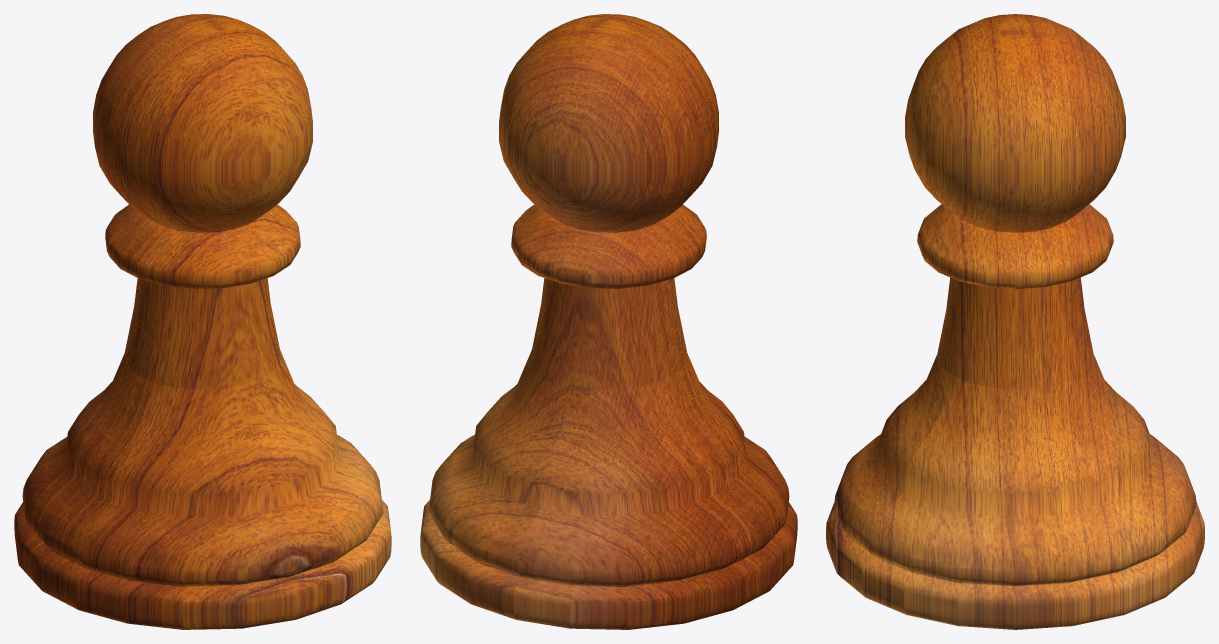
Rendered from branco-peao.obj.
The picture shows the model from 3 angles, left to right: view 1: azimuth 30°, elevation 25°; view 2: azimuth 150°, elevation 25°; view 3: azimuth 270°, elevation 25°; orthographic projection.
Visible parts, largest first — view 1: PEDONE13; view 2: PEDONE13; view 3: PEDONE13.
Part boxes in pixels (x1=…): PEDONE13: x1=14, y1=14, x2=391, y2=629; PEDONE13: x1=420, y1=14, x2=797, y2=629; PEDONE13: x1=826, y1=14, x2=1204, y2=629.
Bounding box in the file's own units: 136 × 210 × 136.
1 material, 1 textured.
